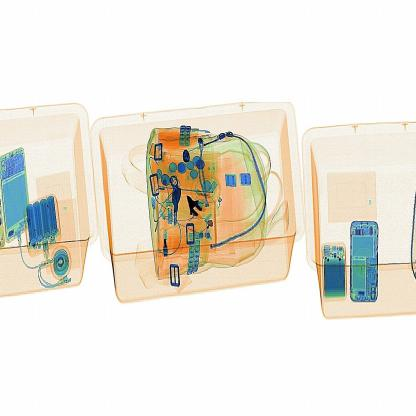gun: (179, 183, 216, 228)
